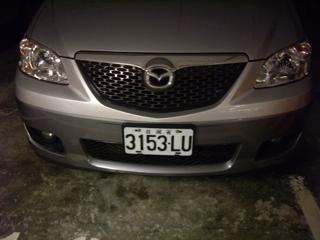plate: (121, 124, 196, 158)
